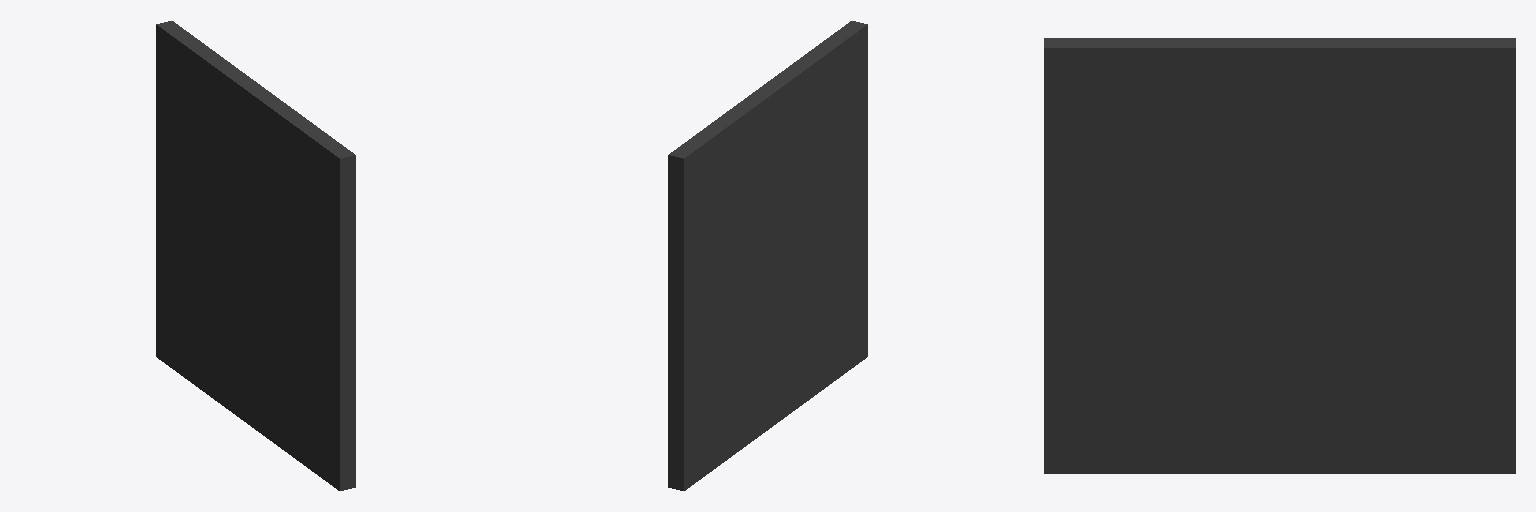
The robot description file, URDF, robot "box":
<?xml version='1.0' encoding='UTF-8'?>
<robot name="box">
  <link name="base_link">
    <inertial>
      <origin xyz="0.0 0.0 0.0" rpy="0.0 -0.0 0.0"/>
      <mass value="1.0"/>
      <inertia ixx="1.0" ixy="0.0" ixz="0.0" iyy="1.0" iyz="0.0" izz="1.0"/>
    </inertial>
    <visual name="base_link_visual">
      <geometry>
        <box size="0.1 2.0 2.0"/>
      </geometry>
      <material name="base_link_color">
        <color rgba="0.3 0.3 0.3 1"/>
      </material>
      <origin xyz="0 0 0" rpy="0 0 0"/>
    </visual>
    <collision name="base_link_collision">
      <geometry>
        <box size="0.1 2.0 2.0"/>
      </geometry>
      <origin xyz="0 0 0" rpy="0 0 0"/>
    </collision>
  </link>
</robot>

--- What the picture shows (computed from the rendered views, not written in the file) ---
Views: 3 orthographic renders of the robot side by side, from view 1: azimuth 30°, elevation 25°; view 2: azimuth 150°, elevation 25°; view 3: azimuth 270°, elevation 25°.
Robot: box — 1 links, 0 joints (none); root link base_link; default pose: every joint at zero.
Links seen in each view (by area): view 1: base_link; view 2: base_link; view 3: base_link.
Link boxes in pixels (box(x1,y1,x2,y2)): base_link: box(156, 21, 355, 490); base_link: box(668, 21, 867, 490); base_link: box(1044, 38, 1515, 473).
Bounding box of the posed robot: 0.1 × 2 × 2 m (x, y, z).
Geometry: primitives only (box / cylinder / sphere), no mesh files.